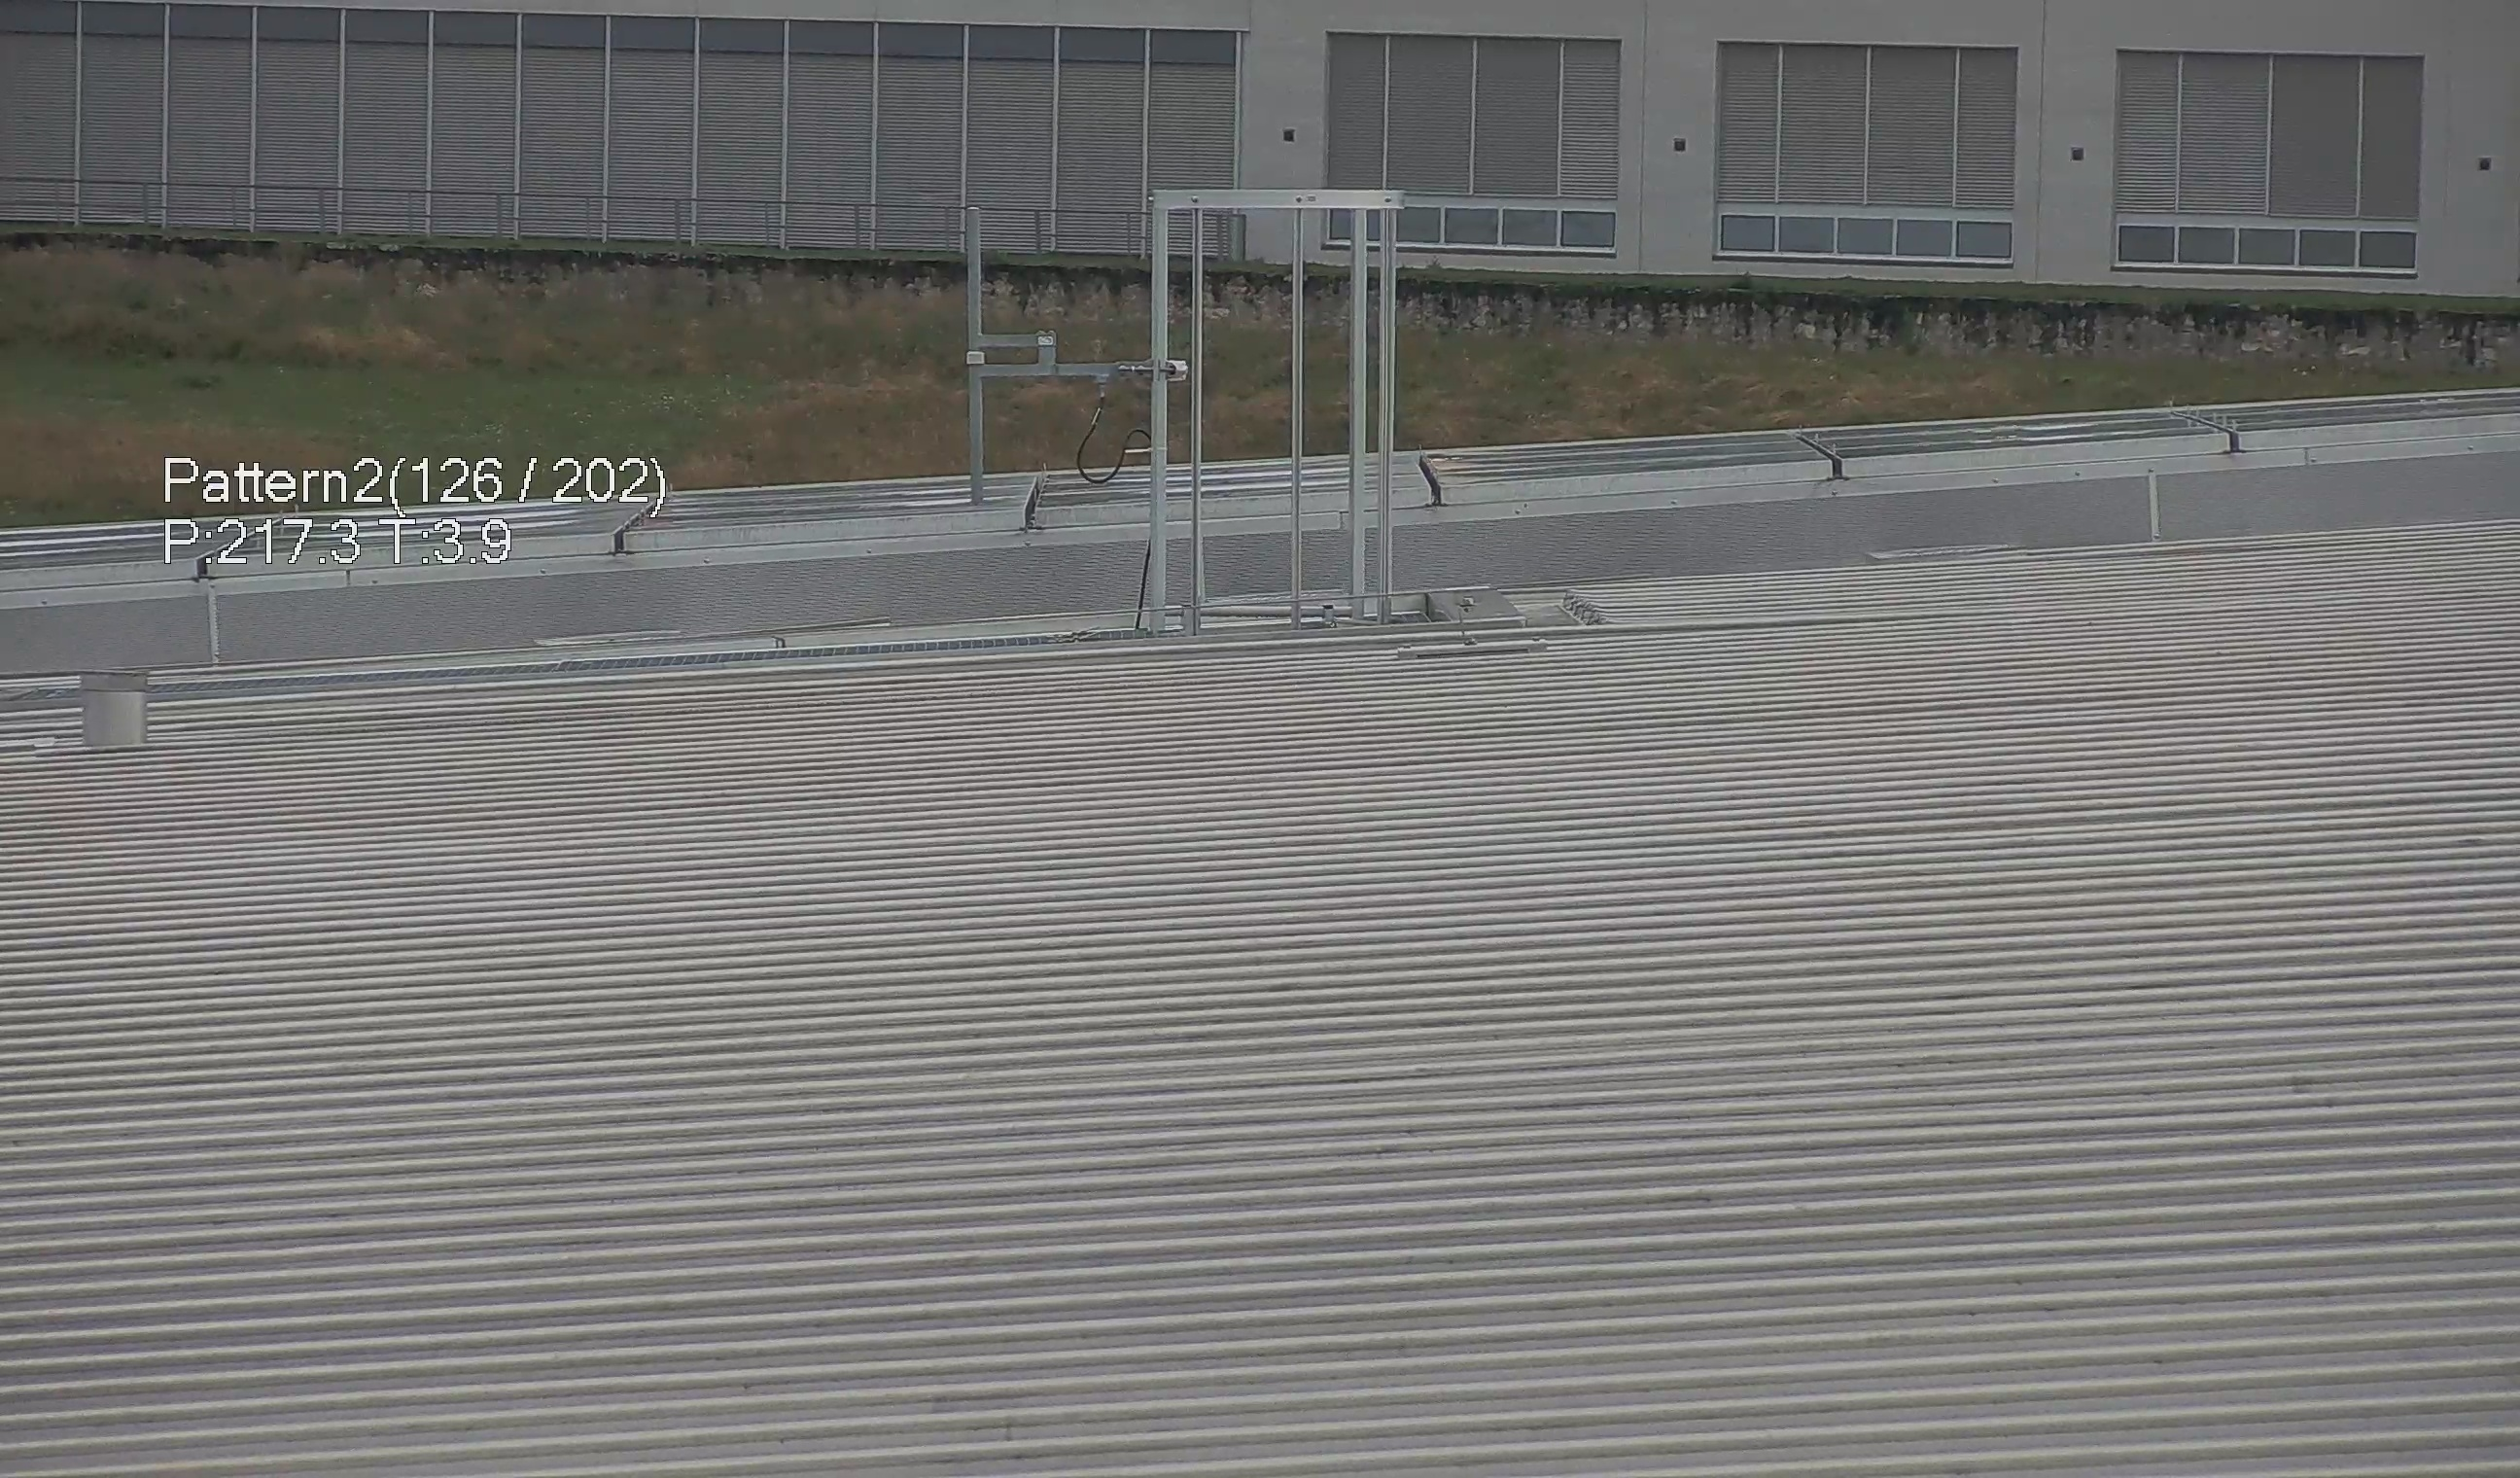Other: (1060, 340, 1169, 489)
